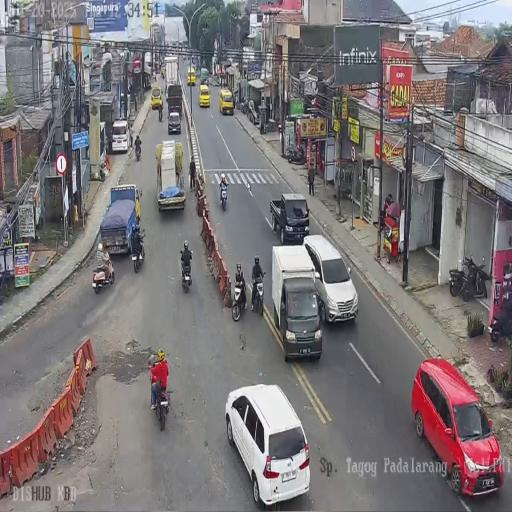car: (412, 357, 502, 493), (225, 384, 310, 507), (305, 234, 359, 323), (271, 191, 308, 244), (110, 118, 130, 154), (219, 88, 234, 115), (151, 86, 162, 110), (199, 84, 210, 108), (187, 66, 196, 86), (200, 67, 208, 85), (182, 54, 188, 64), (196, 64, 201, 75)
motorcycle: (148, 362, 172, 431), (464, 253, 489, 299), (489, 295, 512, 343), (92, 256, 115, 294), (231, 274, 249, 322), (449, 260, 468, 297), (250, 272, 265, 317), (131, 232, 145, 273), (180, 252, 193, 292), (284, 142, 306, 165), (219, 182, 228, 212), (240, 99, 249, 115), (135, 142, 141, 160), (235, 96, 242, 110), (158, 105, 163, 121), (160, 67, 164, 80), (154, 72, 158, 83)
truck: (100, 193, 138, 254), (156, 138, 186, 214), (166, 82, 183, 120)
